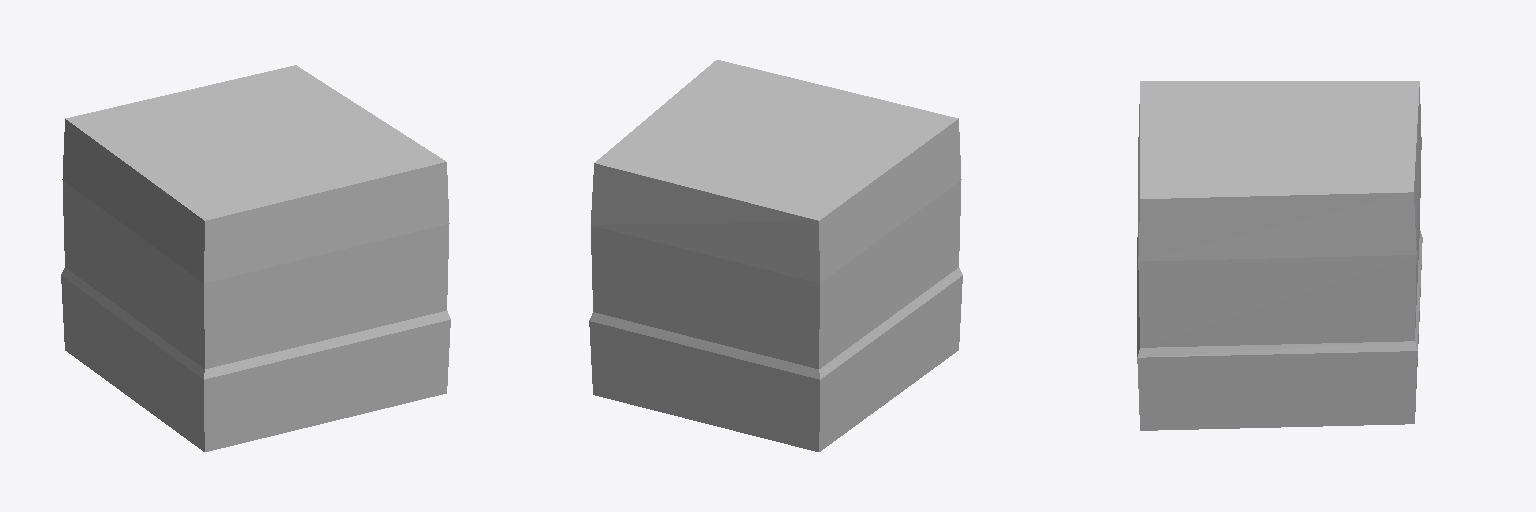
File: cornerFat.obj
3 renders of one model, left to right at view 1: azimuth 30°, elevation 25°; view 2: azimuth 150°, elevation 25°; view 3: azimuth 270°, elevation 25°, orthographic.
Bounding box in the file's own units: 1.12 × 1 × 1.12.